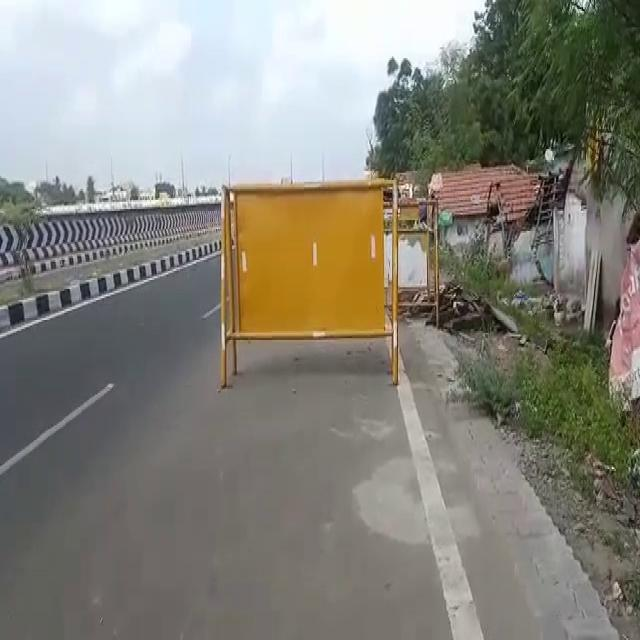fallen_object: (196, 156, 418, 383)
